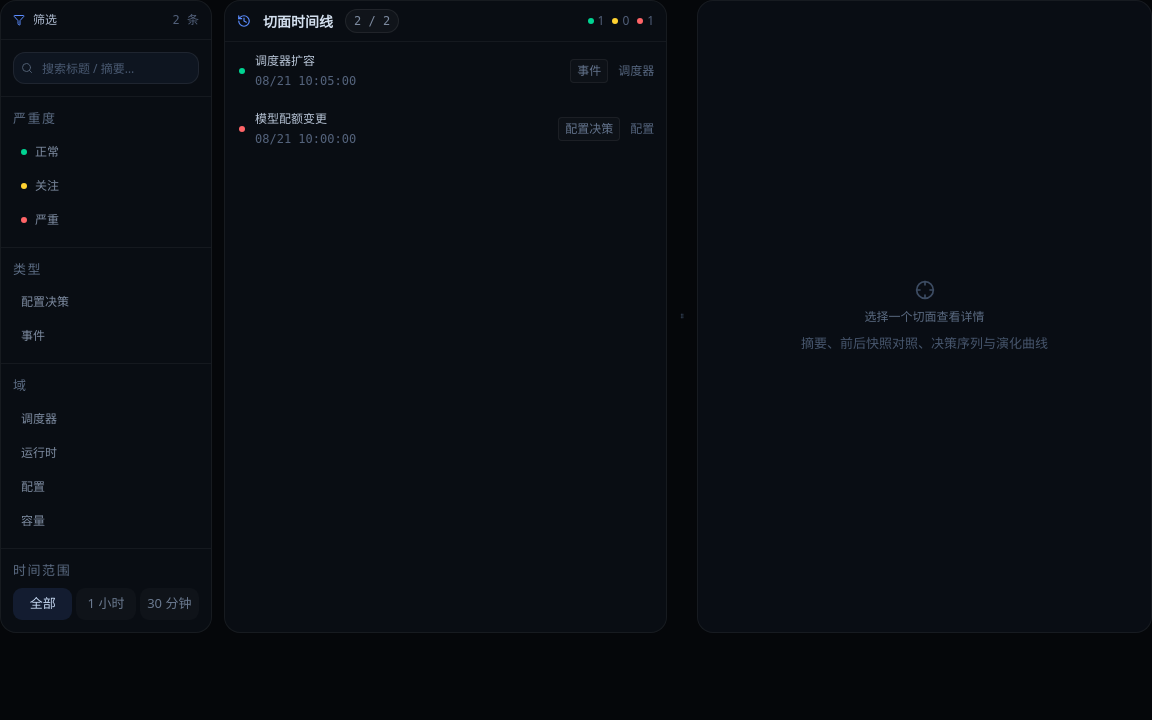
it: TraceWorkbench › 点击切面选中并触发段查询与详情统计
The image size is (1152, 720).
Click the text "模型配额变更" at (291, 118), box top-left (255, 110), bottom-right (327, 127)
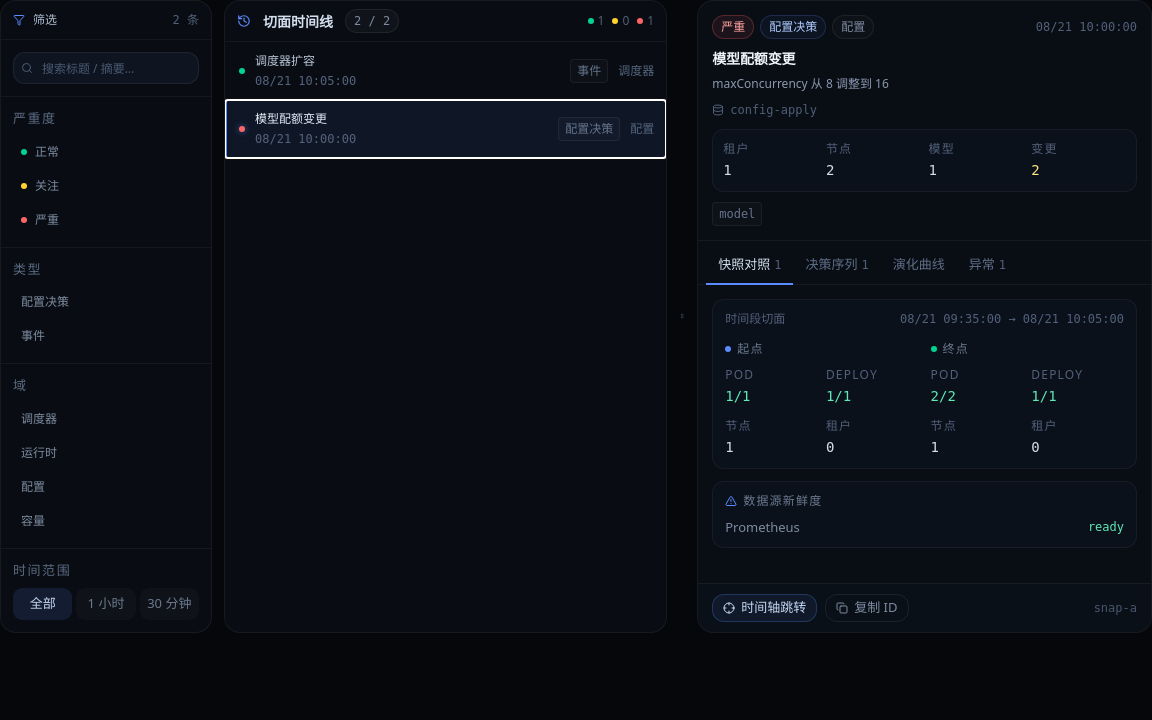
Check: the text "snap-a" is shown, box top-left (1094, 598), bottom-right (1137, 616)
Check: the text "数据源新鲜度" is shown, box top-left (725, 492), bottom-right (822, 508)
Check: the text "prometheus" is shown, box top-left (725, 518), bottom-right (800, 537)
